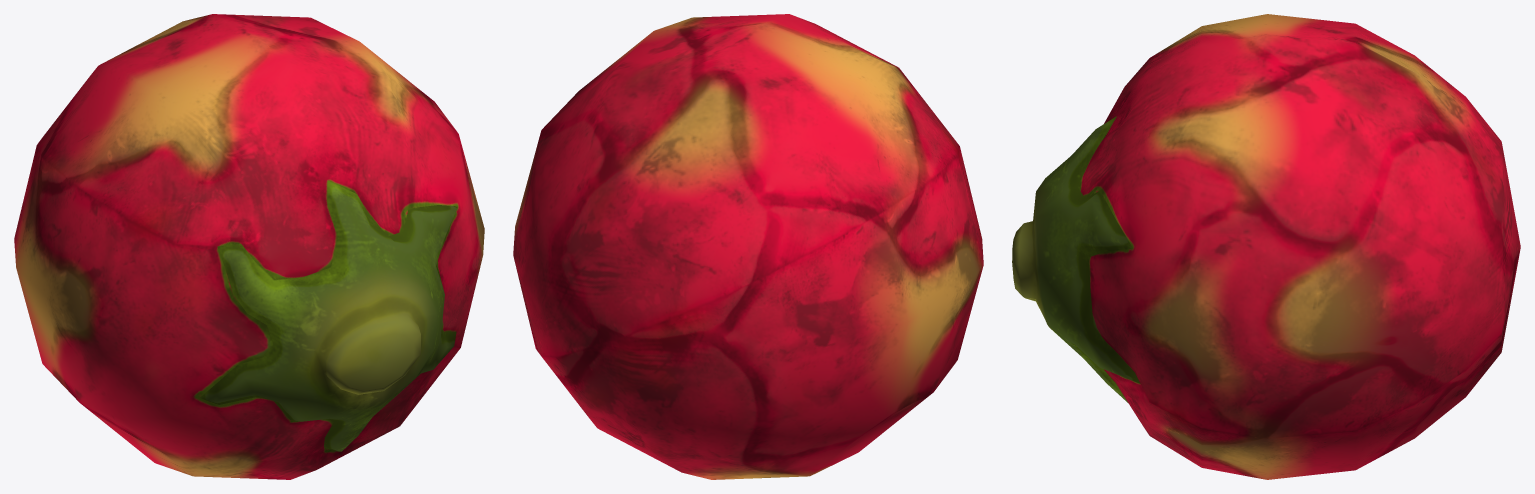
The model's file is DragonfruitA.glb.
3 views of the same model, side by side, from view 1: azimuth 30°, elevation 25°; view 2: azimuth 150°, elevation 25°; view 3: azimuth 270°, elevation 25° (orthographic).
Visible parts, largest first — view 1: DragonfruitA_Dragonfruit_0; view 2: DragonfruitA_Dragonfruit_0; view 3: DragonfruitA_Dragonfruit_0.
Part boxes in pixels (x1,y1,x2,y2): DragonfruitA_Dragonfruit_0: [14, 14, 484, 479]; DragonfruitA_Dragonfruit_0: [513, 14, 983, 479]; DragonfruitA_Dragonfruit_0: [1012, 14, 1520, 479].
Bounding box in the file's own units: 0.8719 × 0.8719 × 0.9482.
1 material, 1 textured.
